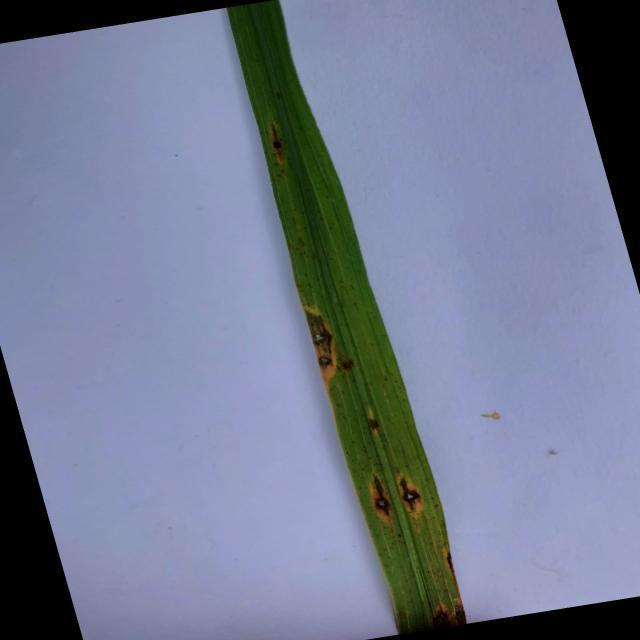Leaf_Blast: (307, 309, 346, 389), (399, 474, 427, 527), (369, 480, 398, 524), (265, 119, 290, 166)
